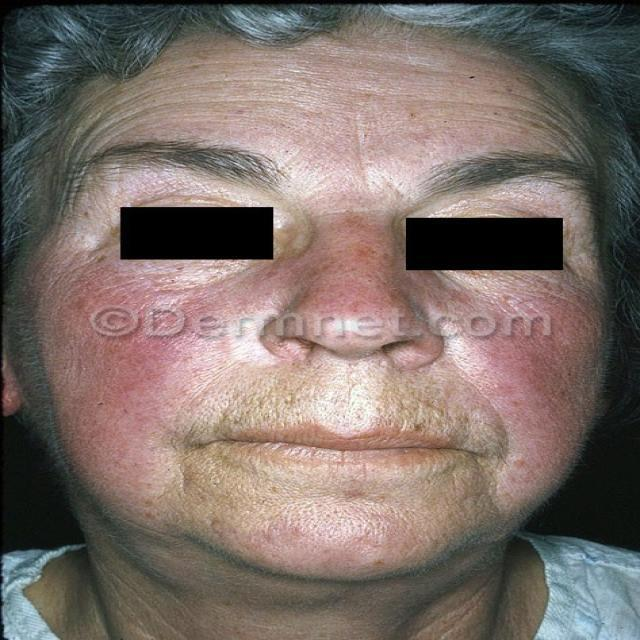skinredness: (108, 245, 504, 491)
